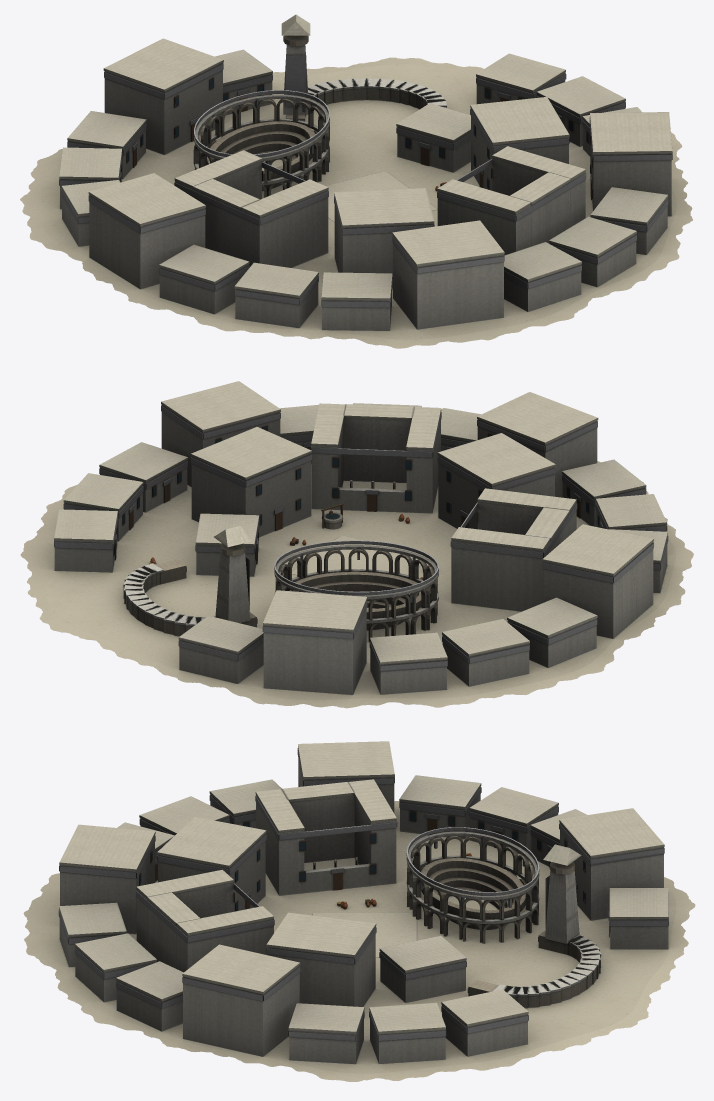
Rendered from classical-town-big-a-maghreb-ed3a9a9e.glb.
3 views of the same model, one above another, from view 1: azimuth 30°, elevation 25°; view 2: azimuth 150°, elevation 25°; view 3: azimuth 270°, elevation 25° (orthographic).
Parts seen in each view (by area): view 1: LOD0; view 2: LOD0; view 3: LOD0.
Part boxes in pixels (x1=…): LOD0: x1=20, y1=14, x2=692, y2=348; LOD0: x1=20, y1=381, x2=693, y2=708; LOD0: x1=23, y1=741, x2=695, y2=1081.
Size of what is drawn, in the model's own units: 7.99 by 1.35 by 7.94.
Materials: 3 (3 with a texture image).
